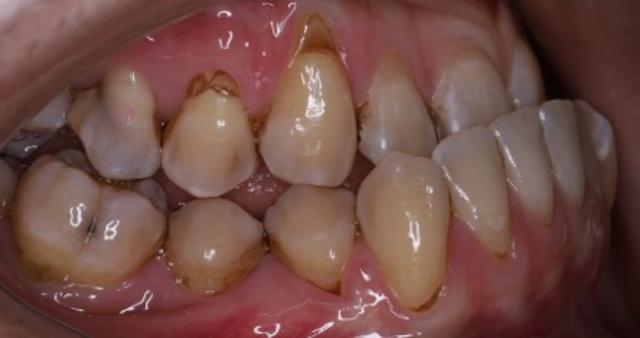canine class III 1/2: (251, 40, 454, 314)
